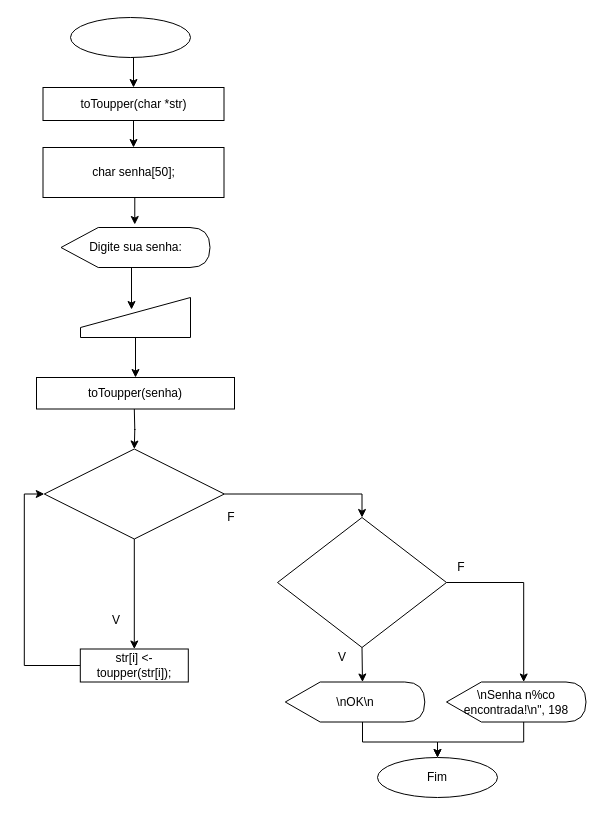
Some shapes in this 604 by 815 pixel diagram are drawn without their labels. The shapes that lost their labels are listed below. From the top down, each one's centre as x and y in pixels, then its label:
[130,37]: Início
[135,317]: senha
[133,493]: int i <- 0; str[i]; i++
[361,582]: strcmp(senha, "ABRACADABRA") == 0
